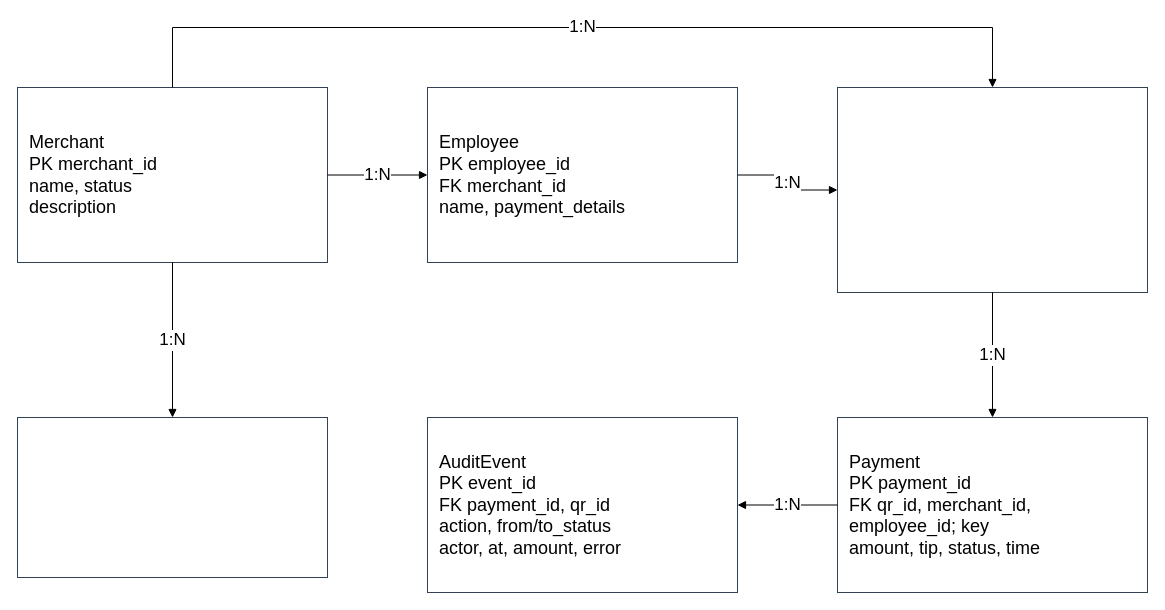
This 1165x610 diagram has some shape labels left out. The centre of each missing label's shape, as x and y in pixels:
QR PK qr_id FK merchant_id, employee_id receipt_id, nonce exp, signature: (992,189)
Report PK report_id FK merchant_id period, tips_total: (172,497)
